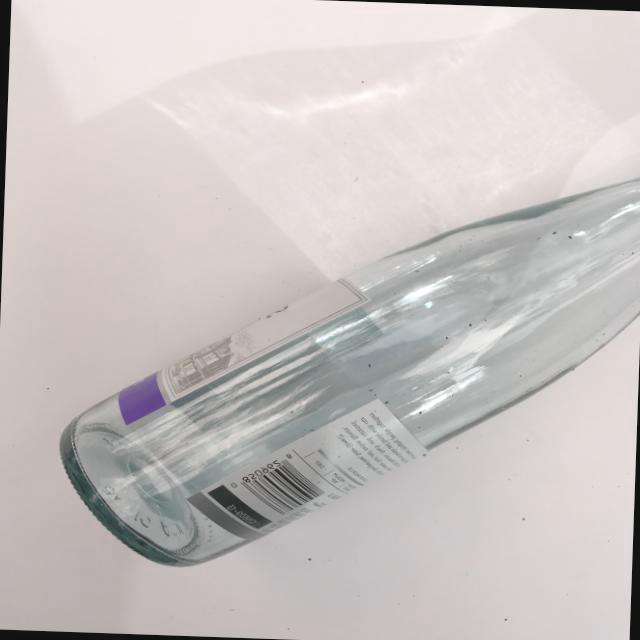glass: (45, 142, 640, 597)
